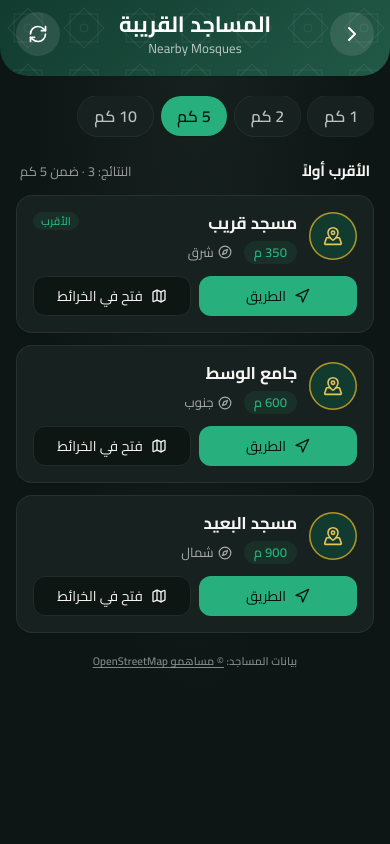
Test: Nearby Mosques — maps app on the iPhone (Apple Maps or Google Maps) › first tap asks Apple Maps or Google Maps; the choice is saved and used from then on
Later steps or results of the test are not shown.
Click the button with test id "mosque-directions". click: (278, 296)
box: x1=199 y1=276 x2=357 y2=316
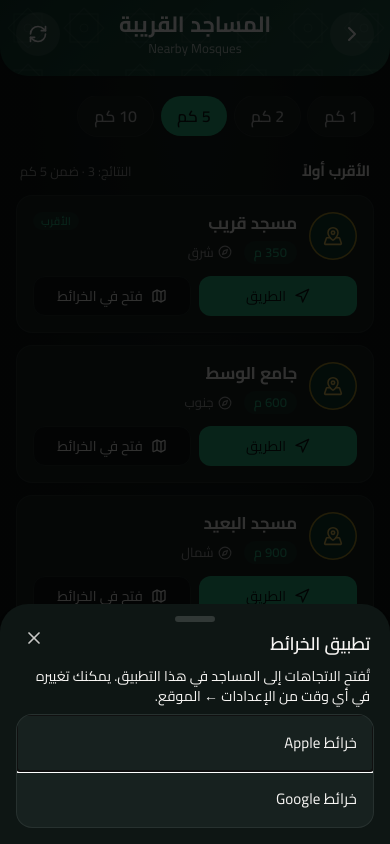
Expected: the radio button labelled "خرائط Apple" is shown, x1=17 y1=715 x2=373 y2=771
Click the radio button labelled "خرائط Google". click: (298, 799)
box: x1=17 y1=771 x2=373 y2=827
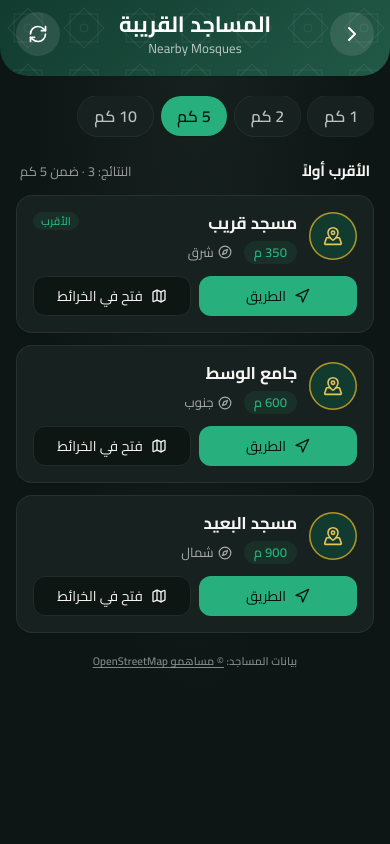
Expected: the radio button is gone
